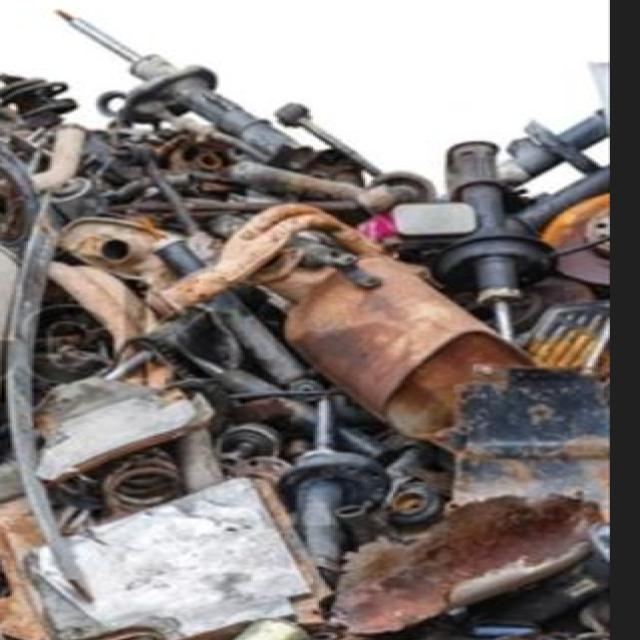shock absorber: (52, 8, 314, 170), (446, 140, 523, 340), (300, 394, 343, 580)
